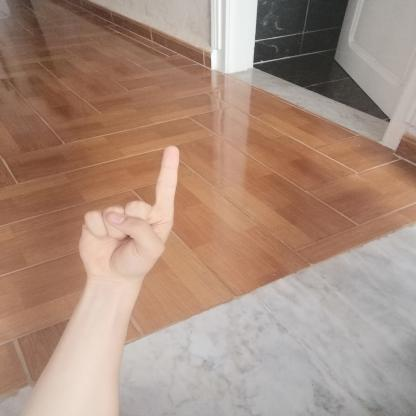BAA: (67, 130, 202, 288)
